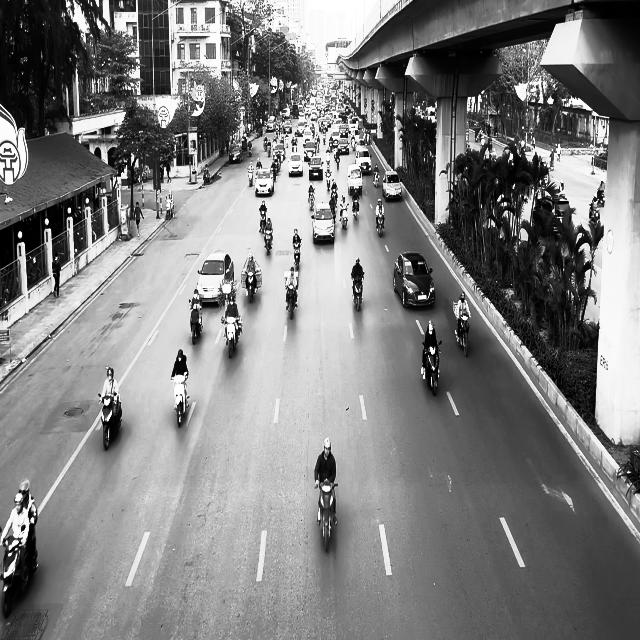car: (393, 251, 435, 308), (196, 250, 234, 305), (311, 202, 335, 244), (382, 170, 402, 200), (255, 168, 274, 196), (347, 164, 363, 195), (288, 152, 303, 177), (308, 156, 323, 179), (228, 143, 242, 163)
motorbike: (0, 519, 38, 618), (315, 480, 337, 552), (98, 392, 122, 450), (421, 339, 442, 396), (171, 372, 190, 426), (453, 302, 470, 357), (221, 315, 242, 358), (188, 300, 203, 344), (351, 273, 364, 311), (285, 284, 298, 319), (245, 270, 257, 302), (375, 211, 385, 237), (588, 202, 600, 223), (264, 228, 273, 254), (293, 241, 301, 269), (340, 203, 348, 229), (258, 208, 266, 233), (352, 197, 359, 220)
